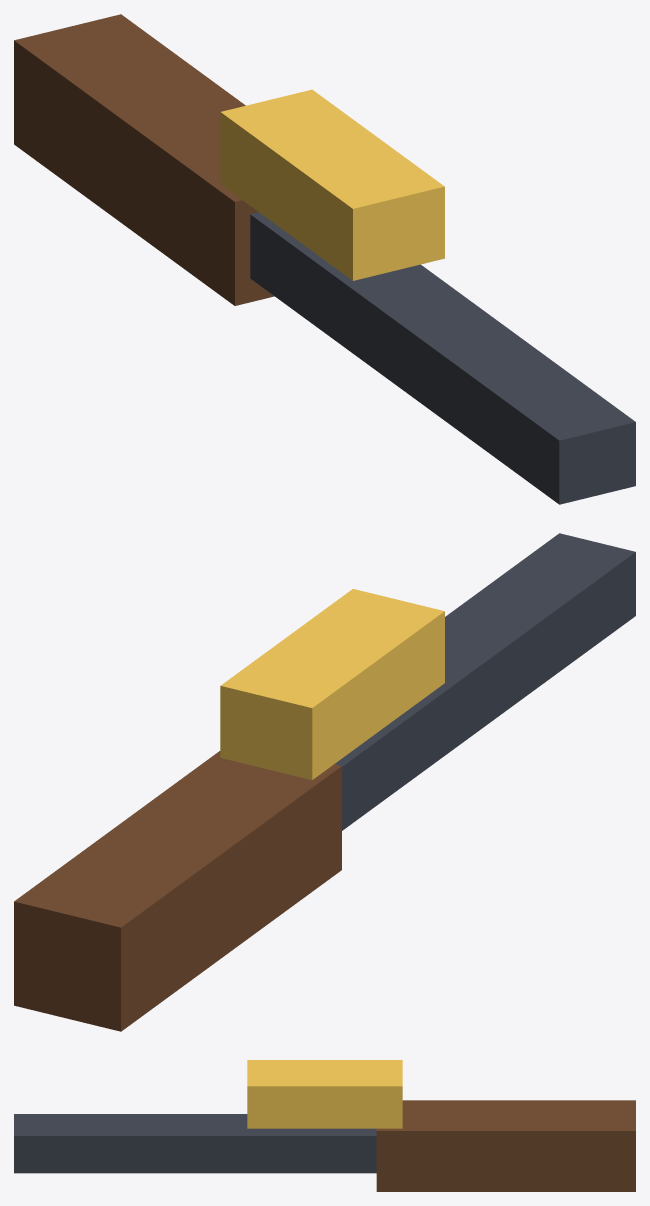
File: gun_rifle.glb
3 views of the same model, one above another, from view 1: azimuth 30°, elevation 25°; view 2: azimuth 150°, elevation 25°; view 3: azimuth 270°, elevation 25° (orthographic). The views are drawn at different scales.
Visible parts, largest first — view 1: gun_rifle; view 2: gun_rifle; view 3: gun_rifle.
Part boxes in pixels (x1=…): gun_rifle: x1=14, y1=14, x2=635, y2=504; gun_rifle: x1=14, y1=533, x2=635, y2=1031; gun_rifle: x1=14, y1=1060, x2=635, y2=1191.
Size of the model in its own units: 0.14 by 0.22 by 1.2.
Materials: 1 (1 with a texture image).
